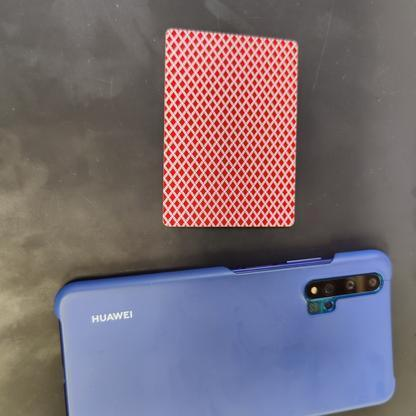card: (159, 19, 304, 236)
